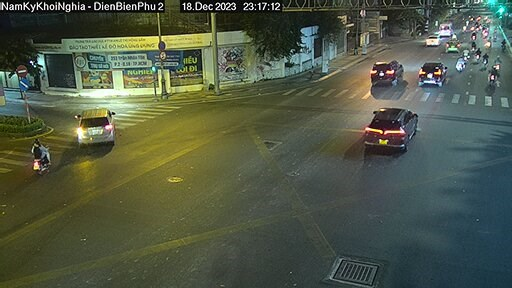car: (445, 36, 463, 52), (426, 33, 442, 48)
motorbike: (367, 92, 419, 156), (24, 135, 72, 191), (75, 103, 126, 152), (366, 56, 404, 91), (418, 57, 452, 89), (484, 64, 505, 82), (456, 55, 471, 72)
